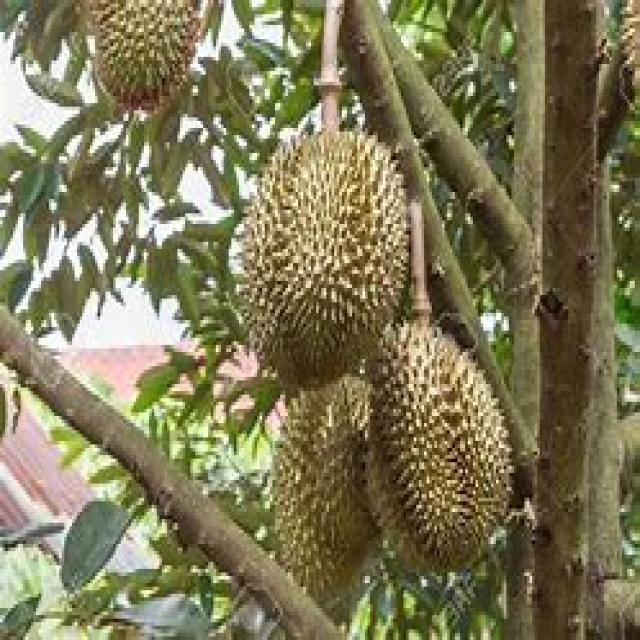mature: (240, 131, 409, 386), (370, 323, 512, 568)
